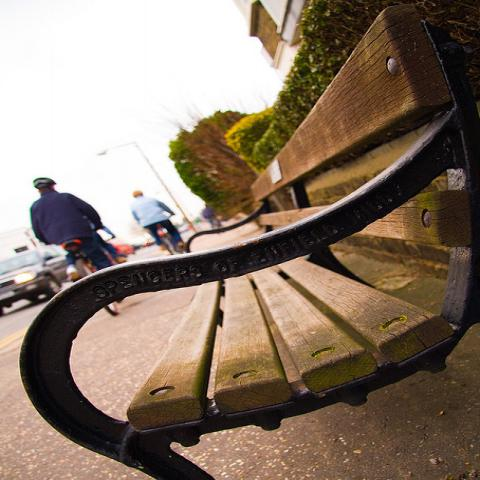car: (2, 245, 67, 313), (112, 243, 136, 255), (131, 244, 146, 251)
